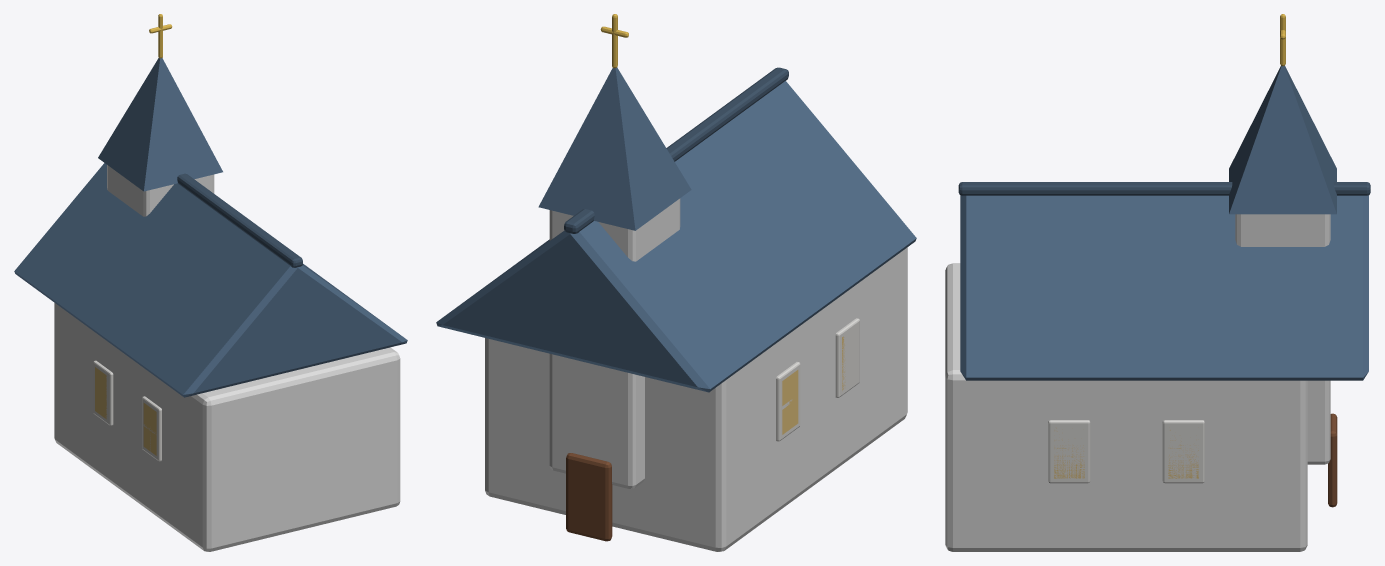
Rendered from chapel.fbx.
The picture shows the model from 3 angles, left to right: view 1: azimuth 30°, elevation 25°; view 2: azimuth 150°, elevation 25°; view 3: azimuth 270°, elevation 25°; orthographic projection. The views are drawn at different scales.
Parts seen in each view (by area): view 1: chapel; view 2: chapel; view 3: chapel.
Boxes of the visible parts, x1,y1,x2,y2 form: chapel: (14,14,407,551); chapel: (436,14,916,551); chapel: (945,14,1370,551).
Bounding box in the file's own units: 1.6 × 2.8 × 2.23.
